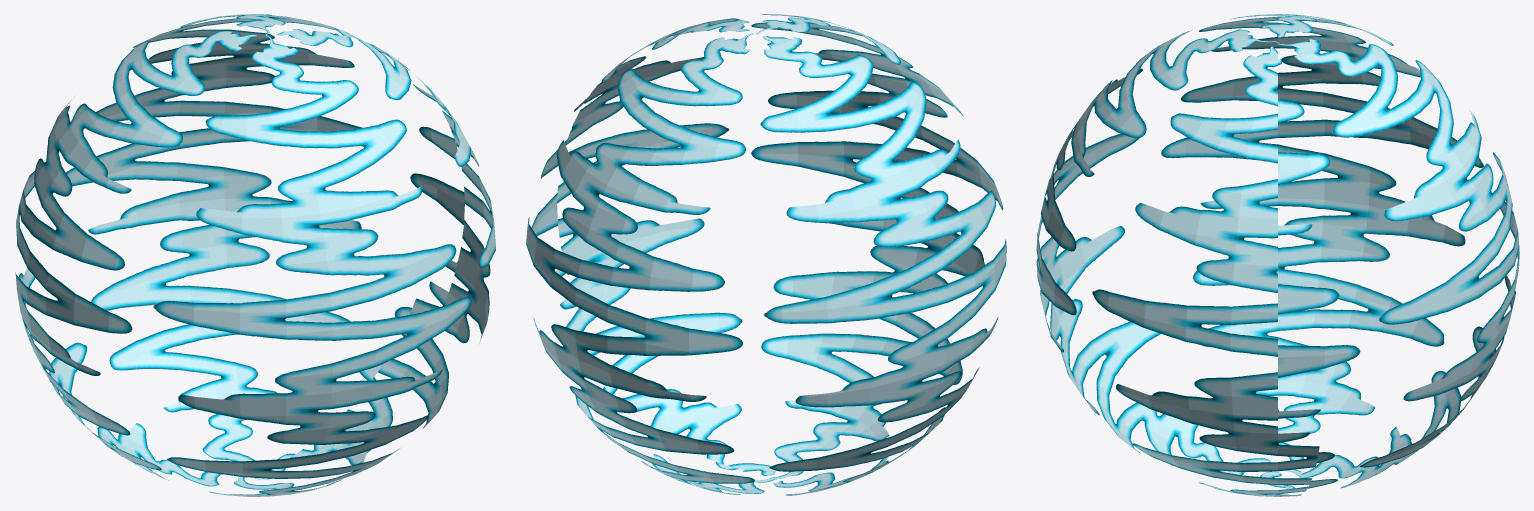
The model's file is disco_sphere.gltf.
3 views of the same model, side by side, from view 1: azimuth 30°, elevation 25°; view 2: azimuth 150°, elevation 25°; view 3: azimuth 270°, elevation 25° (orthographic).
Parts seen in each view (by area): view 1: Sphere-col; view 2: Sphere-col; view 3: Sphere-col.
Boxes of the visible parts, bbox=[...] form: Sphere-col: bbox=[15, 14, 495, 496]; Sphere-col: bbox=[526, 14, 1006, 495]; Sphere-col: bbox=[1036, 14, 1519, 496].
Bounding box in the file's own units: 20 × 20 × 20.
1 material, 1 textured.
